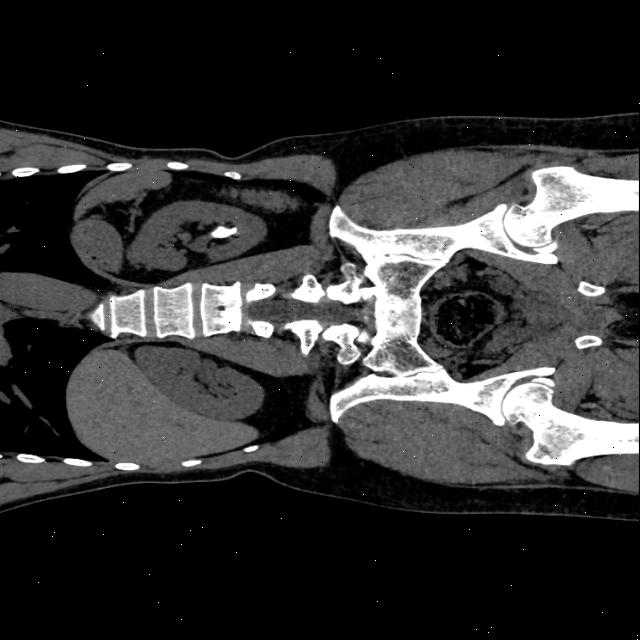kidneystone: (210, 225, 237, 238)
